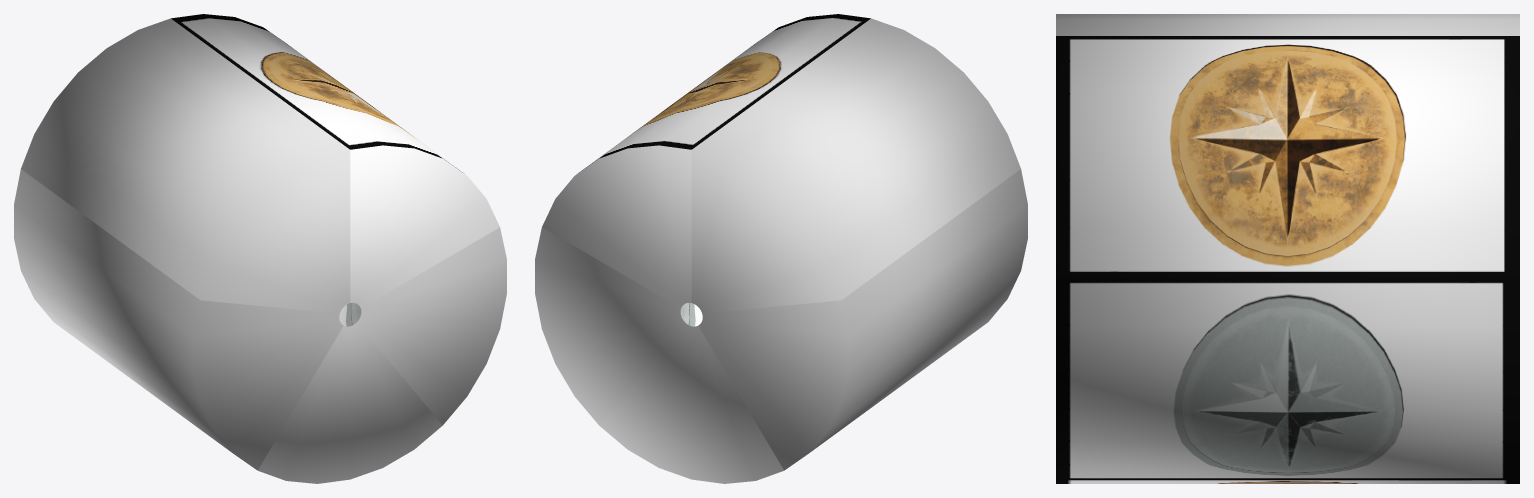
Rendered from roulette.fbx.
3 views of the same model, side by side, from view 1: azimuth 30°, elevation 25°; view 2: azimuth 150°, elevation 25°; view 3: azimuth 270°, elevation 25° (orthographic). The views are drawn at different scales.
Visible parts, largest first — view 1: roulette02, roulette03, roulette01, roulette05, roulette04; view 2: roulette02, roulette03, roulette01, roulette05, roulette04; view 3: roulette01, roulette05, roulette02, roulette04.
Boxes of the visible parts, box(x1,y1,x2,y2) form: roulette02: box(21, 18, 350, 313); roulette03: box(14, 169, 343, 470); roulette01: box(171, 14, 499, 308); roulette05: box(339, 227, 506, 424); roulette04: box(258, 322, 442, 483); roulette02: box(691, 18, 1020, 313); roulette03: box(698, 169, 1027, 470); roulette01: box(542, 14, 870, 308); roulette05: box(535, 227, 702, 424); roulette04: box(599, 322, 783, 483); roulette01: box(1056, 36, 1519, 277); roulette05: box(1056, 277, 1519, 479); roulette02: box(1056, 14, 1519, 35); roulette04: box(1056, 479, 1519, 483).
Bounding box in the file's own units: 135 × 136 × 134.
Materials: 3 (3 with a texture image).
